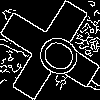O: (25, 25, 85, 83)
